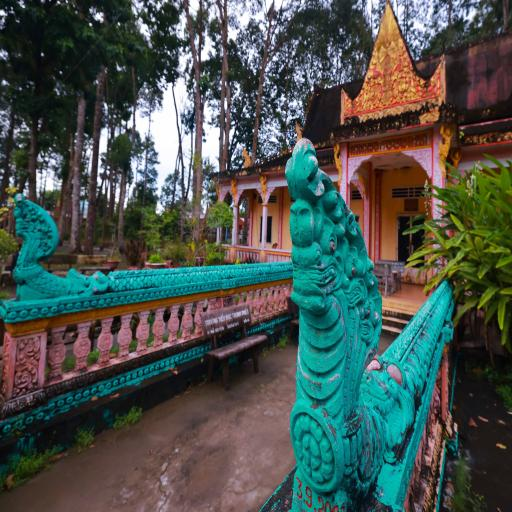ran: (280, 150, 394, 498), (12, 188, 72, 295)
